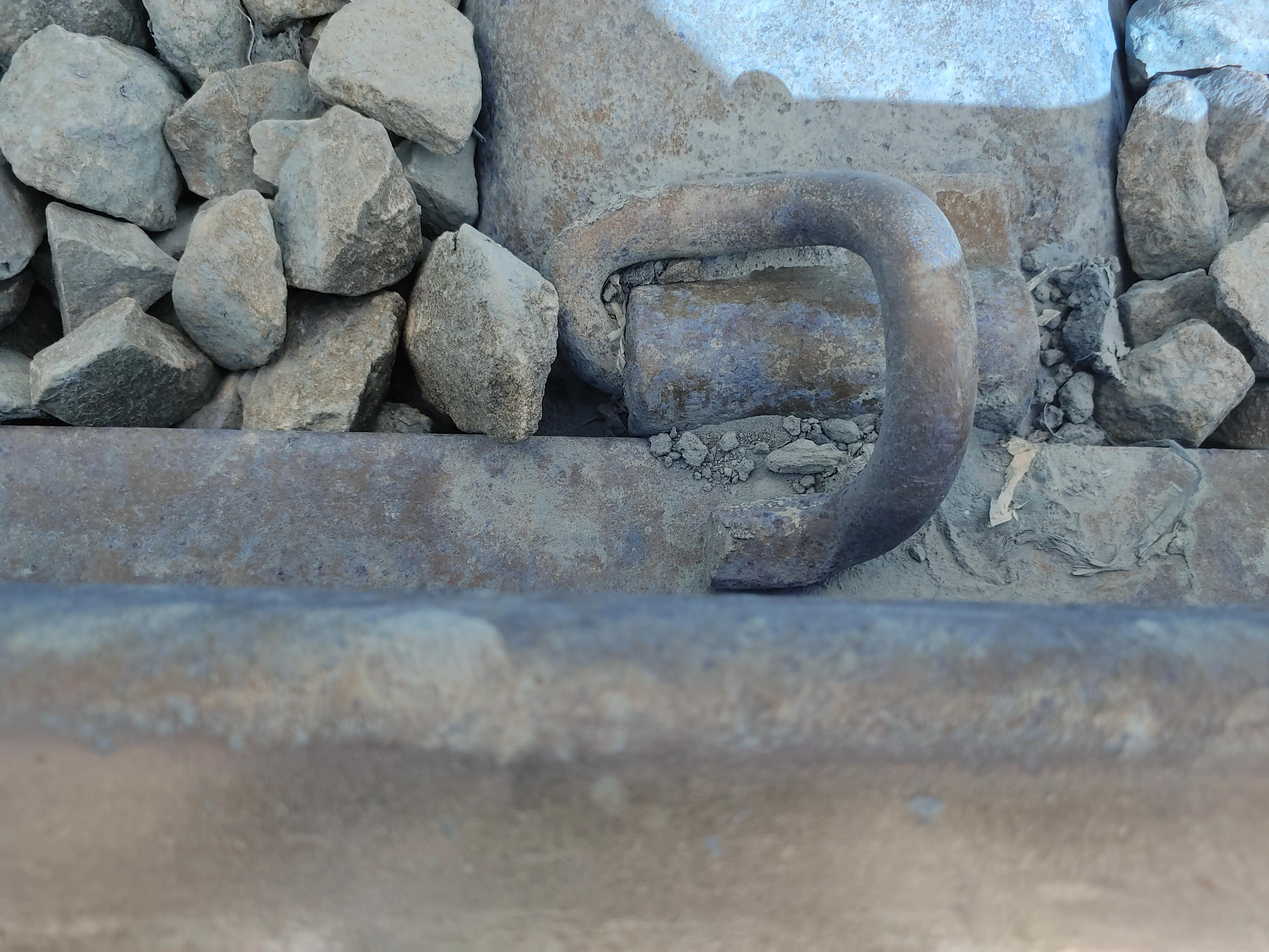Poor contact: (550, 129, 1026, 501)
